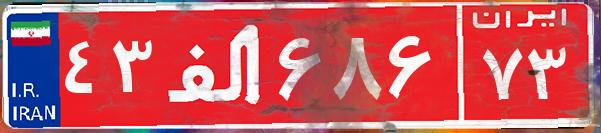3: (110, 28, 158, 105), (525, 38, 570, 115)
4: (57, 26, 110, 107)
6: (385, 28, 445, 110), (273, 28, 330, 110)
7: (475, 38, 525, 113)
8: (330, 28, 385, 110)
الف: (158, 15, 273, 115)
